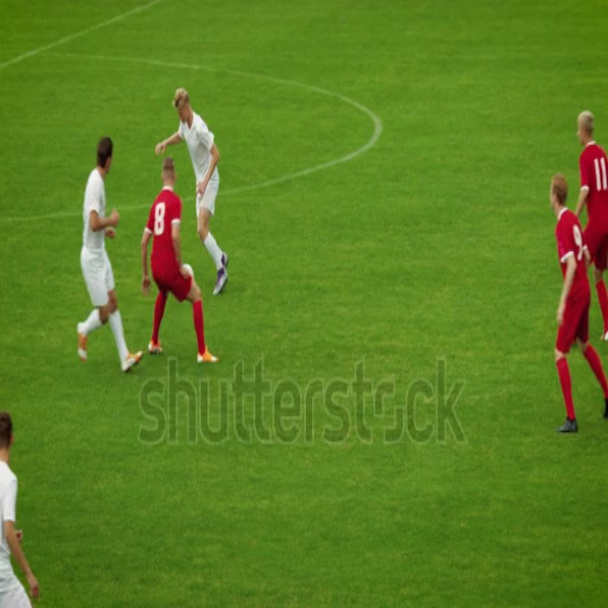ball: (180, 261, 197, 296)
